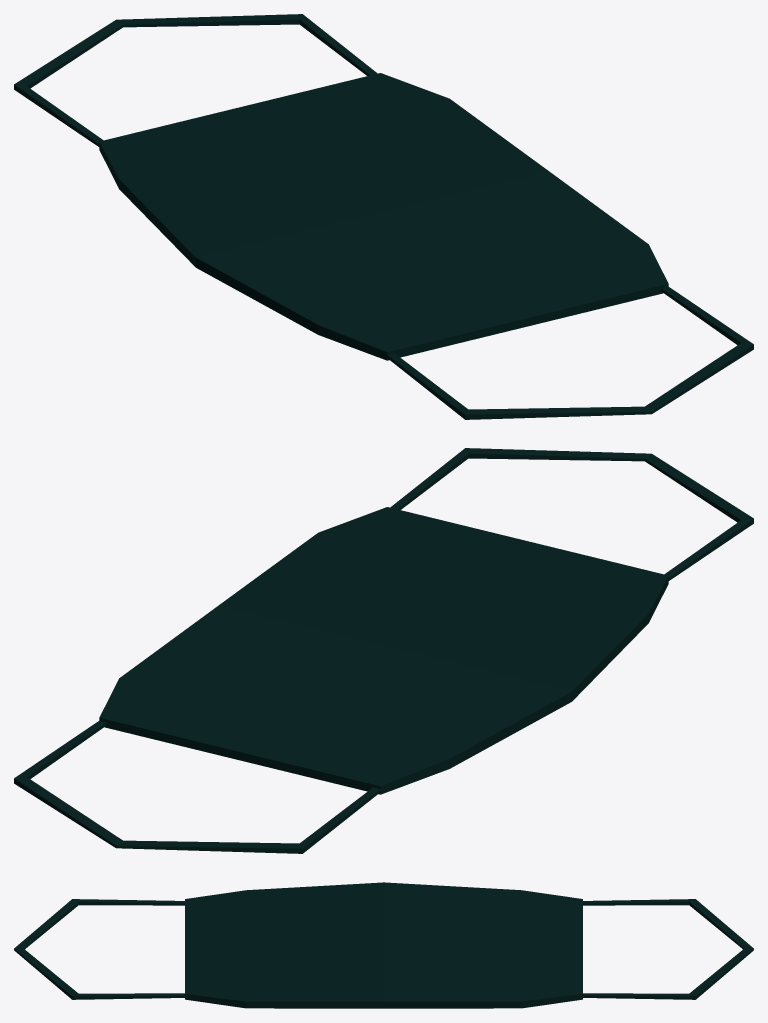
File: facemask-black.fbx
The picture shows the model from 3 angles, top to bottom: view 1: azimuth 30°, elevation 25°; view 2: azimuth 150°, elevation 25°; view 3: azimuth 270°, elevation 25°; orthographic projection. The views are drawn at different scales.
Parts seen in each view (by area): view 1: Cube.001; view 2: Cube.001; view 3: Cube.001.
Part boxes in pixels (bbox=[...]): Cube.001: bbox=[14, 14, 753, 419]; Cube.001: bbox=[14, 448, 753, 853]; Cube.001: bbox=[14, 882, 753, 1008].
Size of the model in its own units: 142 by 3.91 by 372.
